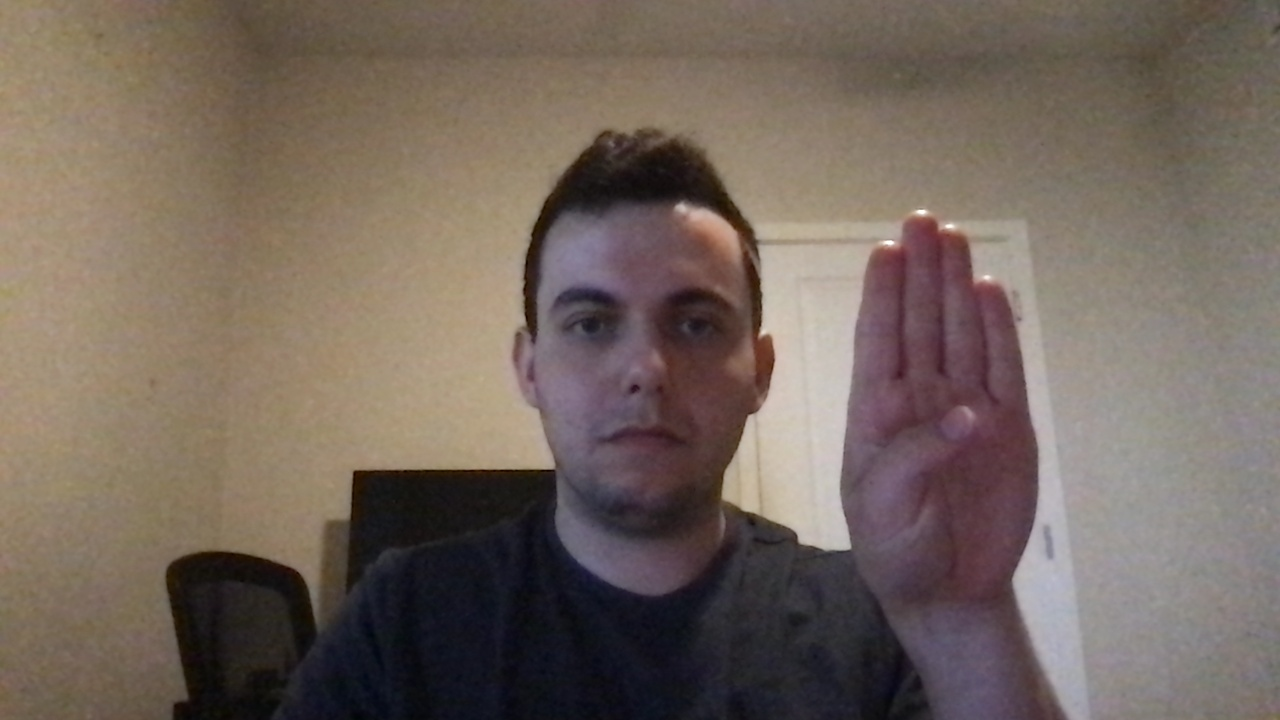b: (827, 196, 1054, 607)
